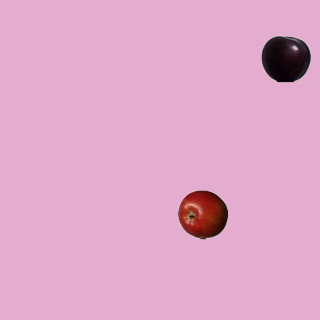Apple Braeburn: (177, 189, 227, 239)
Cherry Wax Black: (260, 33, 310, 83)
